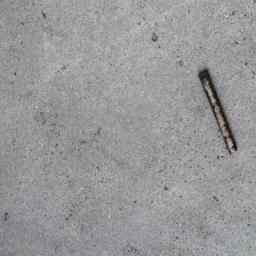FOD: (196, 69, 242, 158)
